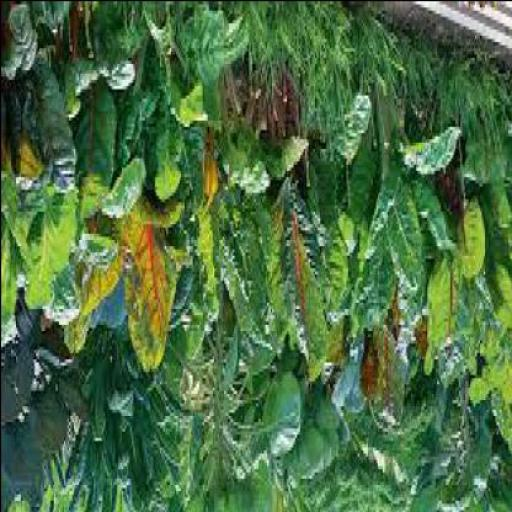biodegradable: (1, 1, 512, 511), (272, 184, 319, 386), (11, 358, 86, 478), (309, 198, 363, 352), (121, 216, 165, 376), (21, 69, 73, 204), (374, 176, 428, 302), (71, 82, 116, 220), (48, 226, 106, 333), (405, 100, 468, 189), (26, 201, 70, 305), (251, 378, 294, 474), (220, 138, 271, 204), (428, 255, 460, 358), (358, 257, 395, 336), (68, 267, 116, 324), (458, 192, 487, 276), (357, 180, 390, 251), (345, 156, 374, 233)
